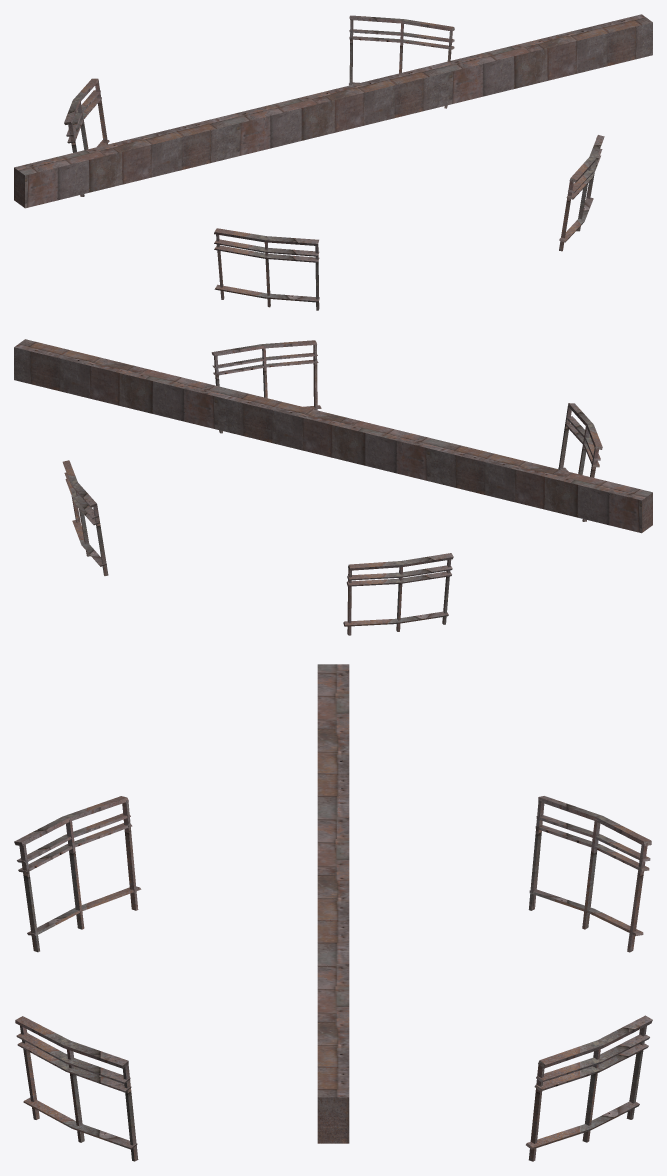
File: SM_LDFest_24_Metal.fbx
The picture shows the model from 3 angles, top to bottom: view 1: azimuth 30°, elevation 25°; view 2: azimuth 150°, elevation 25°; view 3: azimuth 270°, elevation 25°; orthographic projection. The views are drawn at different scales.
Parts seen in each view (by area): view 1: SM_LDFest_24_Metal; view 2: SM_LDFest_24_Metal; view 3: SM_LDFest_24_Metal.
Part boxes in pixels (box(x1,y1,x2,y2)): SM_LDFest_24_Metal: box(14, 14, 652, 310); SM_LDFest_24_Metal: box(14, 339, 652, 635); SM_LDFest_24_Metal: box(14, 664, 652, 1161).
Bounding box in the file's own units: 5737 × 950 × 3578.
